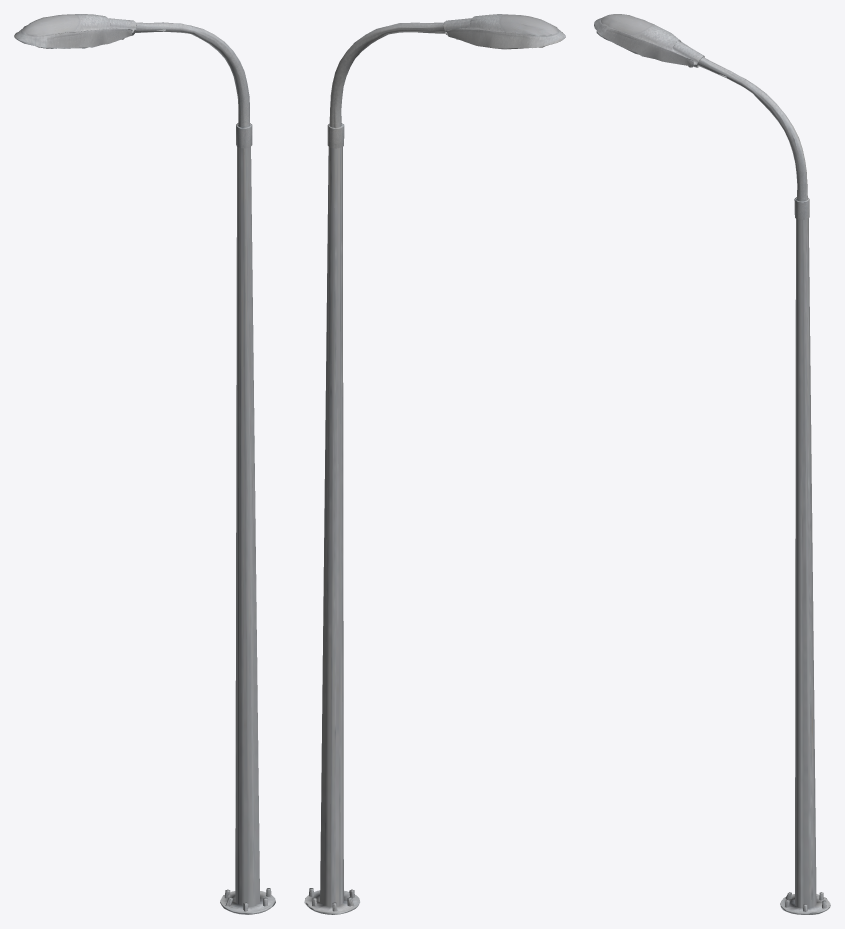
The picture shows the model from 3 angles, left to right: view 1: azimuth 30°, elevation 25°; view 2: azimuth 150°, elevation 25°; view 3: azimuth 330°, elevation 25°; orthographic projection. The views are drawn at different scales.
Size of the model in its own units: 0.2734 by 0.9502 by 0.0513.
1 material, 1 textured.
